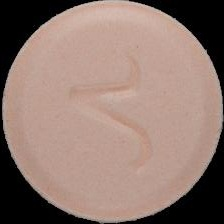60687-145: (0, 0, 224, 224)
